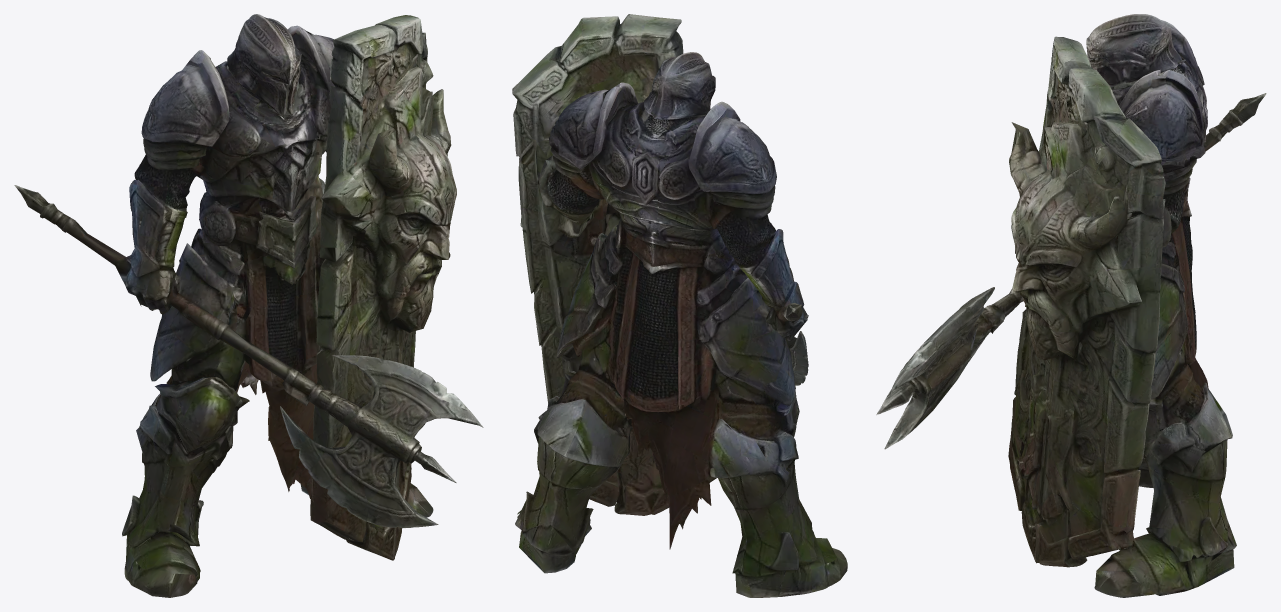
Rendered from stoneguard.glb.
3 views of the same model, side by side, from view 1: azimuth 30°, elevation 25°; view 2: azimuth 150°, elevation 25°; view 3: azimuth 270°, elevation 25° (orthographic). The views are drawn at different scales.
Size of the model in its own units: 1.34 by 1.9 by 1.31.
1 material, 1 textured.
